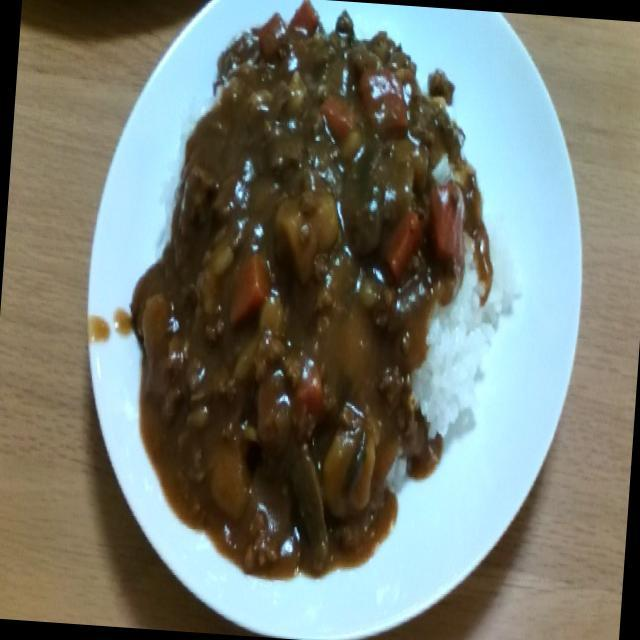Beef Curry: (120, 0, 490, 594)
